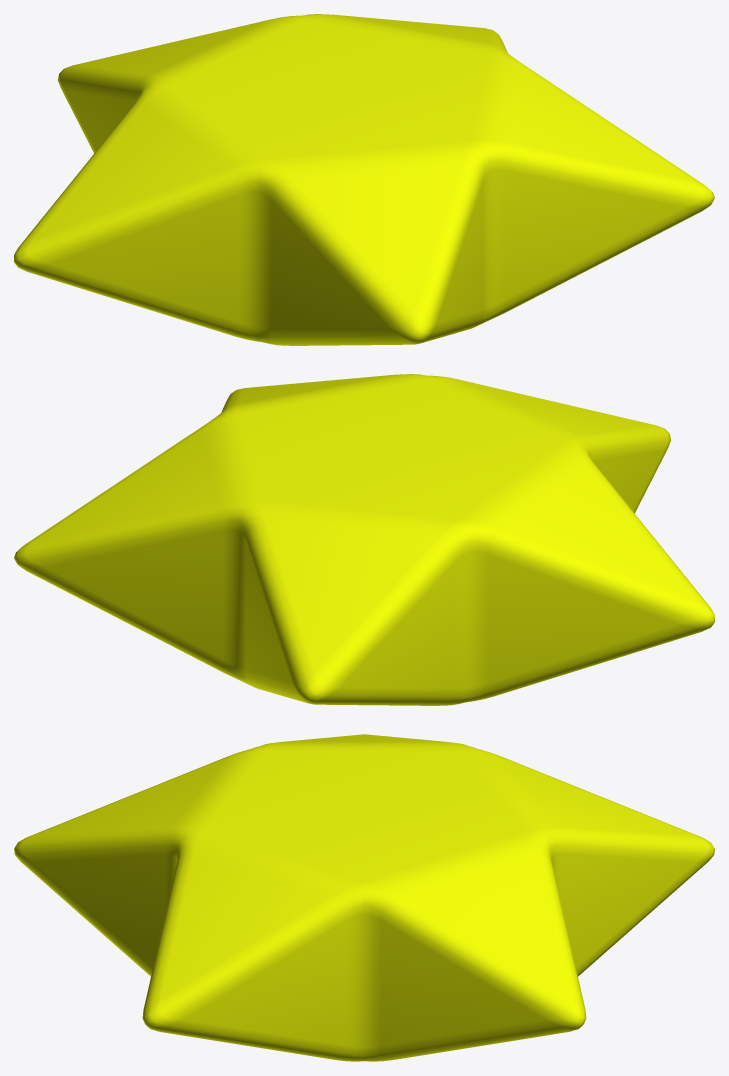
The model's file is Star.fbx.
3 renders of one model, top to bottom at view 1: azimuth 30°, elevation 25°; view 2: azimuth 150°, elevation 25°; view 3: azimuth 270°, elevation 25°, orthographic. The views are drawn at different scales.
Visible parts, largest first — view 1: Cylinder001; view 2: Cylinder001; view 3: Cylinder001.
Boxes of the visible parts, <box> form: Cylinder001: <box>14,14,714,345</box>; Cylinder001: <box>14,374,714,705</box>; Cylinder001: <box>14,734,714,1061</box>.
Size of the model in its own units: 17.21 by 5 by 18.05.
